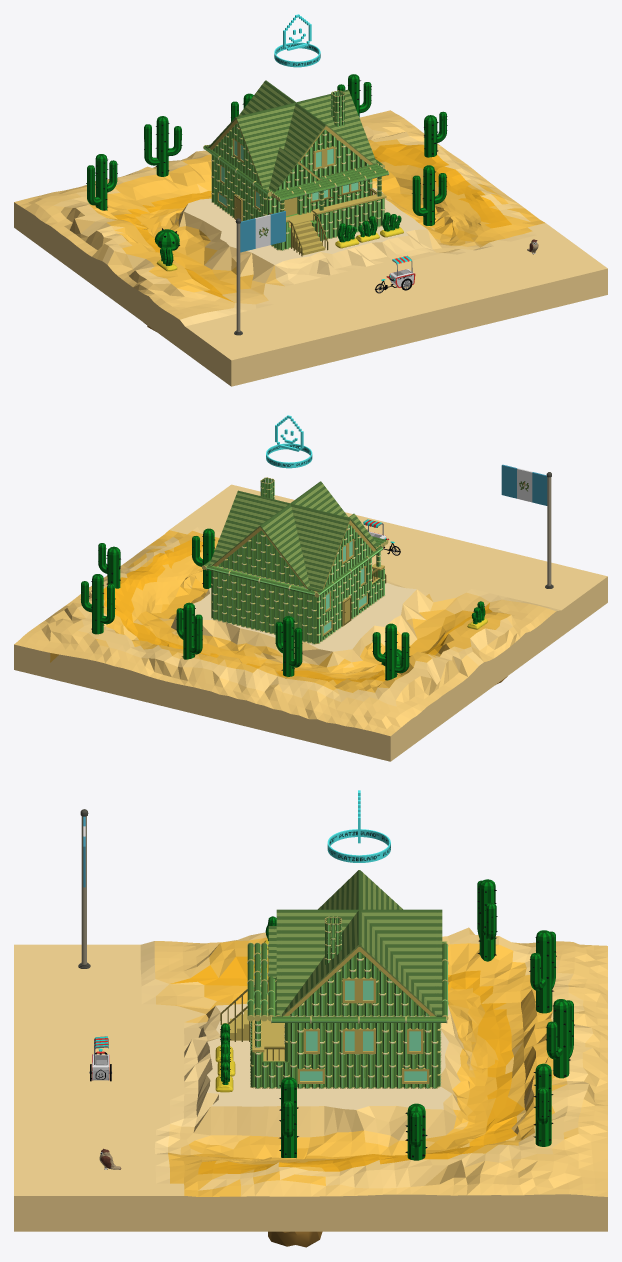
3 renders of one model, top to bottom at view 1: azimuth 30°, elevation 25°; view 2: azimuth 150°, elevation 25°; view 3: azimuth 270°, elevation 25°, orthographic. The views are drawn at different scales.
Parts seen in each view (by area): view 1: Cube.001, Cube.1327, OBJRANDOM_GUATEMALAN_FLAG, Cylinder.044, Cylinder.037, Cylinder.045, TYPE_PREMIUM, Cylinder.038, VEHICLES_SNOWBAL_BIKE, Cylinder.042; view 2: Cube.001, Cube.1327, OBJRANDOM_GUATEMALAN_FLAG, Cylinder.045, Cylinder.042, Cylinder.044, Cylinder.043, TYPE_PREMIUM, Cylinder.037, Cylinder.038; view 3: Cube.001, Cube.1327, Cylinder.043, Cylinder.044, Cylinder.045, Cylinder.042, Cylinder.037, TYPE_PREMIUM, Cylinder.038, OBJRANDOM_GUATEMALAN_FLAG, VEHICLES_SNOWBAL_BIKE, UNDERGROUND_T_REX_BONES.
Boxes of the visible parts, x1,y1,x2,y2 form: Cube.001: (14, 110, 607, 386); Cube.1327: (203, 80, 389, 256); OBJRANDOM_GUATEMALAN_FLAG: (234, 211, 285, 335); Cylinder.044: (144, 116, 182, 176); Cylinder.037: (412, 165, 446, 225); Cylinder.045: (86, 154, 117, 210); TYPE_PREMIUM: (274, 14, 320, 67); Cylinder.038: (424, 111, 447, 157); VEHICLES_SNOWBAL_BIKE: (375, 255, 415, 293); Cylinder.042: (337, 74, 371, 117); Cube.001: (14, 484, 607, 761); Cube.1327: (201, 477, 388, 644); OBJRANDOM_GUATEMALAN_FLAG: (501, 464, 553, 588); Cylinder.045: (372, 623, 410, 680); Cylinder.042: (81, 574, 115, 634); Cylinder.044: (275, 616, 302, 676); Cylinder.043: (176, 602, 202, 659); TYPE_PREMIUM: (266, 415, 312, 468); Cylinder.037: (192, 528, 218, 588); Cylinder.038: (98, 543, 120, 588); Cube.001: (14, 927, 607, 1231); Cube.1327: (220, 870, 448, 1088); Cylinder.043: (546, 999, 574, 1078); Cylinder.044: (529, 930, 556, 1013); Cylinder.045: (477, 879, 497, 961); Cylinder.042: (533, 1063, 553, 1146); Cylinder.037: (279, 1077, 298, 1157); TYPE_PREMIUM: (327, 790, 390, 862); Cylinder.038: (405, 1103, 427, 1160); OBJRANDOM_GUATEMALAN_FLAG: (78, 809, 90, 968); VEHICLES_SNOWBAL_BIKE: (89, 1036, 111, 1081); UNDERGROUND_T_REX_BONES: (268, 1231, 322, 1247).
Bounding box in the file's own units: 4002 × 2550 × 4001.
Materials: 35 (4 with a texture image).
